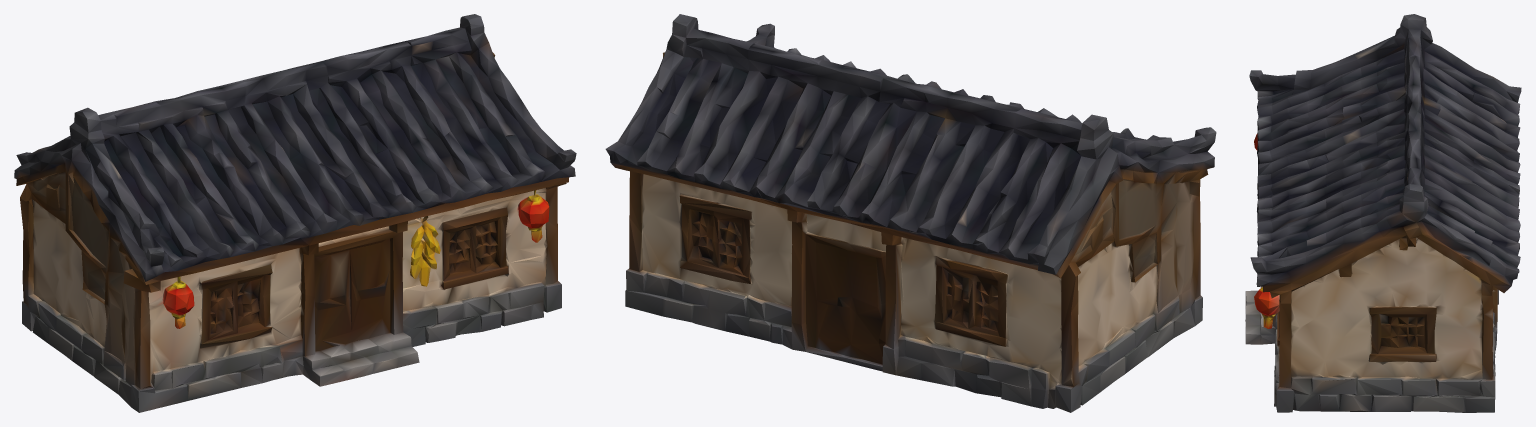
The model's file is bq_farmhouse.vc.glb.
3 views of the same model, side by side, from view 1: azimuth 30°, elevation 25°; view 2: azimuth 150°, elevation 25°; view 3: azimuth 270°, elevation 25° (orthographic). The views are drawn at different scales.
Visible parts, largest first — view 1: bq_farmhouse; view 2: bq_farmhouse; view 3: bq_farmhouse.
Boxes of the visible parts, box(x1,y1,x2,y2) form: bq_farmhouse: box(14, 14, 576, 412); bq_farmhouse: box(605, 14, 1216, 412); bq_farmhouse: box(1245, 14, 1521, 412).
Size of the model in its own units: 1.91 by 1.03 by 1.15.
